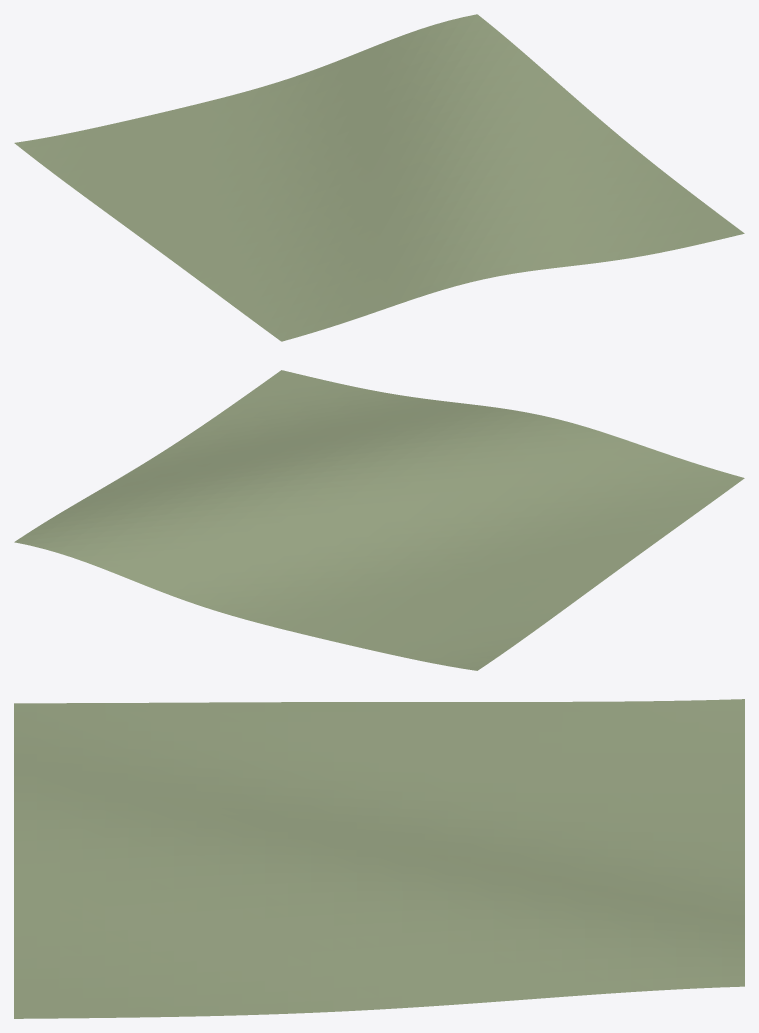
File: desert-4-9.glb
3 renders of one model, top to bottom at view 1: azimuth 30°, elevation 25°; view 2: azimuth 150°, elevation 25°; view 3: azimuth 270°, elevation 25°, orthographic. The views are drawn at different scales.
Parts seen in each view (by area): view 1: desert-4-9; view 2: desert-4-9; view 3: desert-4-9.
Boxes of the visible parts, box(x1,y1,x2,y2) form: desert-4-9: box(14, 14, 744, 341); desert-4-9: box(14, 370, 744, 670); desert-4-9: box(14, 699, 744, 1018).
Bounding box in the file's own units: 512 × 25.54 × 512.
